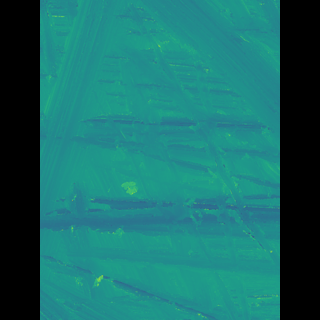Loch: (72, 5, 245, 315)
